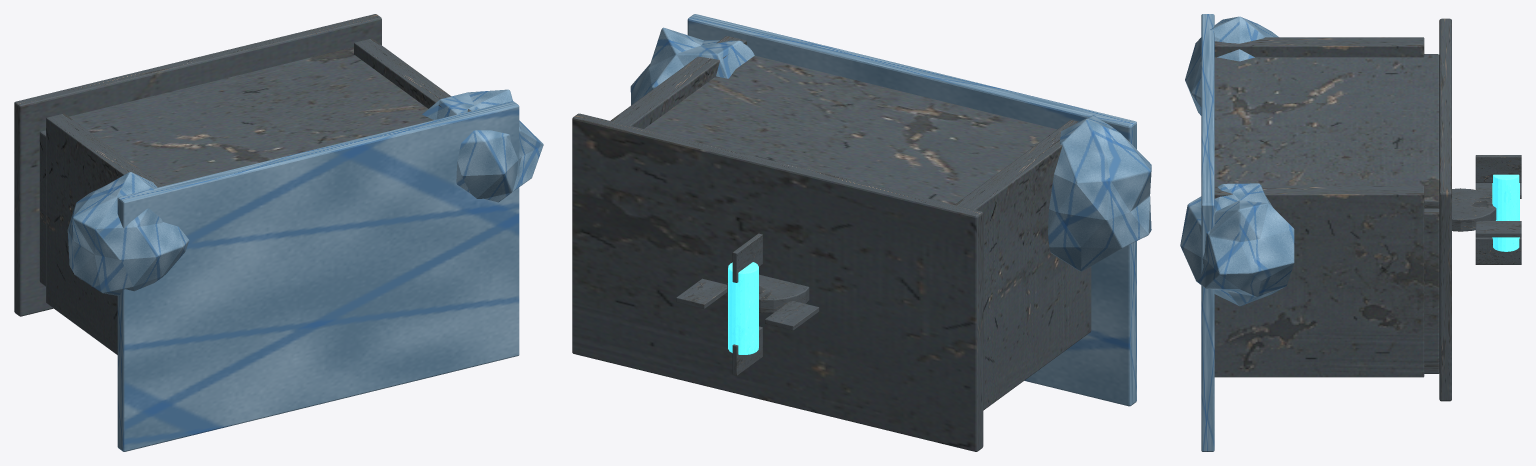
The model's file is sentinel_archive.glb.
The picture shows the model from 3 angles, left to right: view 1: azimuth 30°, elevation 25°; view 2: azimuth 150°, elevation 25°; view 3: azimuth 270°, elevation 25°; orthographic projection. The views are drawn at different scales.
Visible parts, largest first — view 1: ArchiveFoundation, ArchiveRearShell, ArchiveRoof, ArchiveButtress_-5.9, ArchiveIceClampWest, ArchiveIceClampEast, ArchiveButtress_5.9, ArchiveSideShell_-5.82; view 2: ArchiveRoof, ArchiveRearShell, ArchiveFoundation, ArchiveButtress_-5.9, ArchiveIceClampWest, ArchiveIceClampEast, ArchiveButtress_5.9, ArchiveReceiverCore, ArchiveReceiverBase, ReceiverVane_4.71238898038469, ReceiverVane_1.5707963267948966, ReceiverVane_0 (+1 smaller); view 3: ArchiveButtress_5.9, ArchiveRearShell, ArchiveIceClampEast, ArchiveFoundation, ArchiveRoof, ArchiveButtress_-5.9, ArchiveSideShell_5.82, ArchiveIceClampWest, ArchiveReceiverCore, ArchiveReceiverBase, ReceiverVane_0, ReceiverVane_3.141592653589793 (+1 smaller).
Part boxes in pixels (x1,y1,x2,y2): ArchiveFoundation: (117,101,519,451); ArchiveRearShell: (69,47,433,185); ArchiveRoof: (14,14,381,316); ArchiveButtress_-5.9: (46,113,163,354); ArchiveIceClampWest: (67,172,189,295); ArchiveIceClampEast: (422,89,543,202); ArchiveButtress_5.9: (354,38,470,111); ArchiveSideShell_-5.82: (39,130,45,286); ArchiveRoof: (572,113,983,451); ArchiveRearShell: (644,55,1056,204); ArchiveFoundation: (687,14,1136,406); ArchiveButtress_-5.9: (955,120,1091,410); ArchiveIceClampWest: (1048,115,1151,271); ArchiveIceClampEast: (630,27,754,105); ArchiveButtress_5.9: (610,36,746,128); ArchiveReceiverCore: (728,262,758,354); ArchiveReceiverBase: (727,274,809,313); ReceiverVane_4.71238898038469: (765,301,819,330); ReceiverVane_1.5707963267948966: (676,278,727,308); ReceiverVane_0: (732,233,762,282); ArchiveButtress_5.9: (1214,185,1424,377); ArchiveRearShell: (1214,54,1439,208); ArchiveIceClampEast: (1180,183,1294,306); ArchiveFoundation: (1201,14,1214,451); ArchiveRoof: (1439,18,1451,401); ArchiveButtress_-5.9: (1214,37,1424,57); ArchiveSideShell_5.82: (1424,208,1439,362); ArchiveIceClampWest: (1185,16,1278,115); ArchiveReceiverCore: (1492,174,1519,251); ArchiveReceiverBase: (1452,188,1496,231); ReceiverVane_0: (1475,155,1521,182); ReceiverVane_3.141592653589793: (1475,237,1521,264).
Bounding box in the file's own units: 17.67 × 9.54 × 11.48.
Materials: 5 (5 with a texture image).
